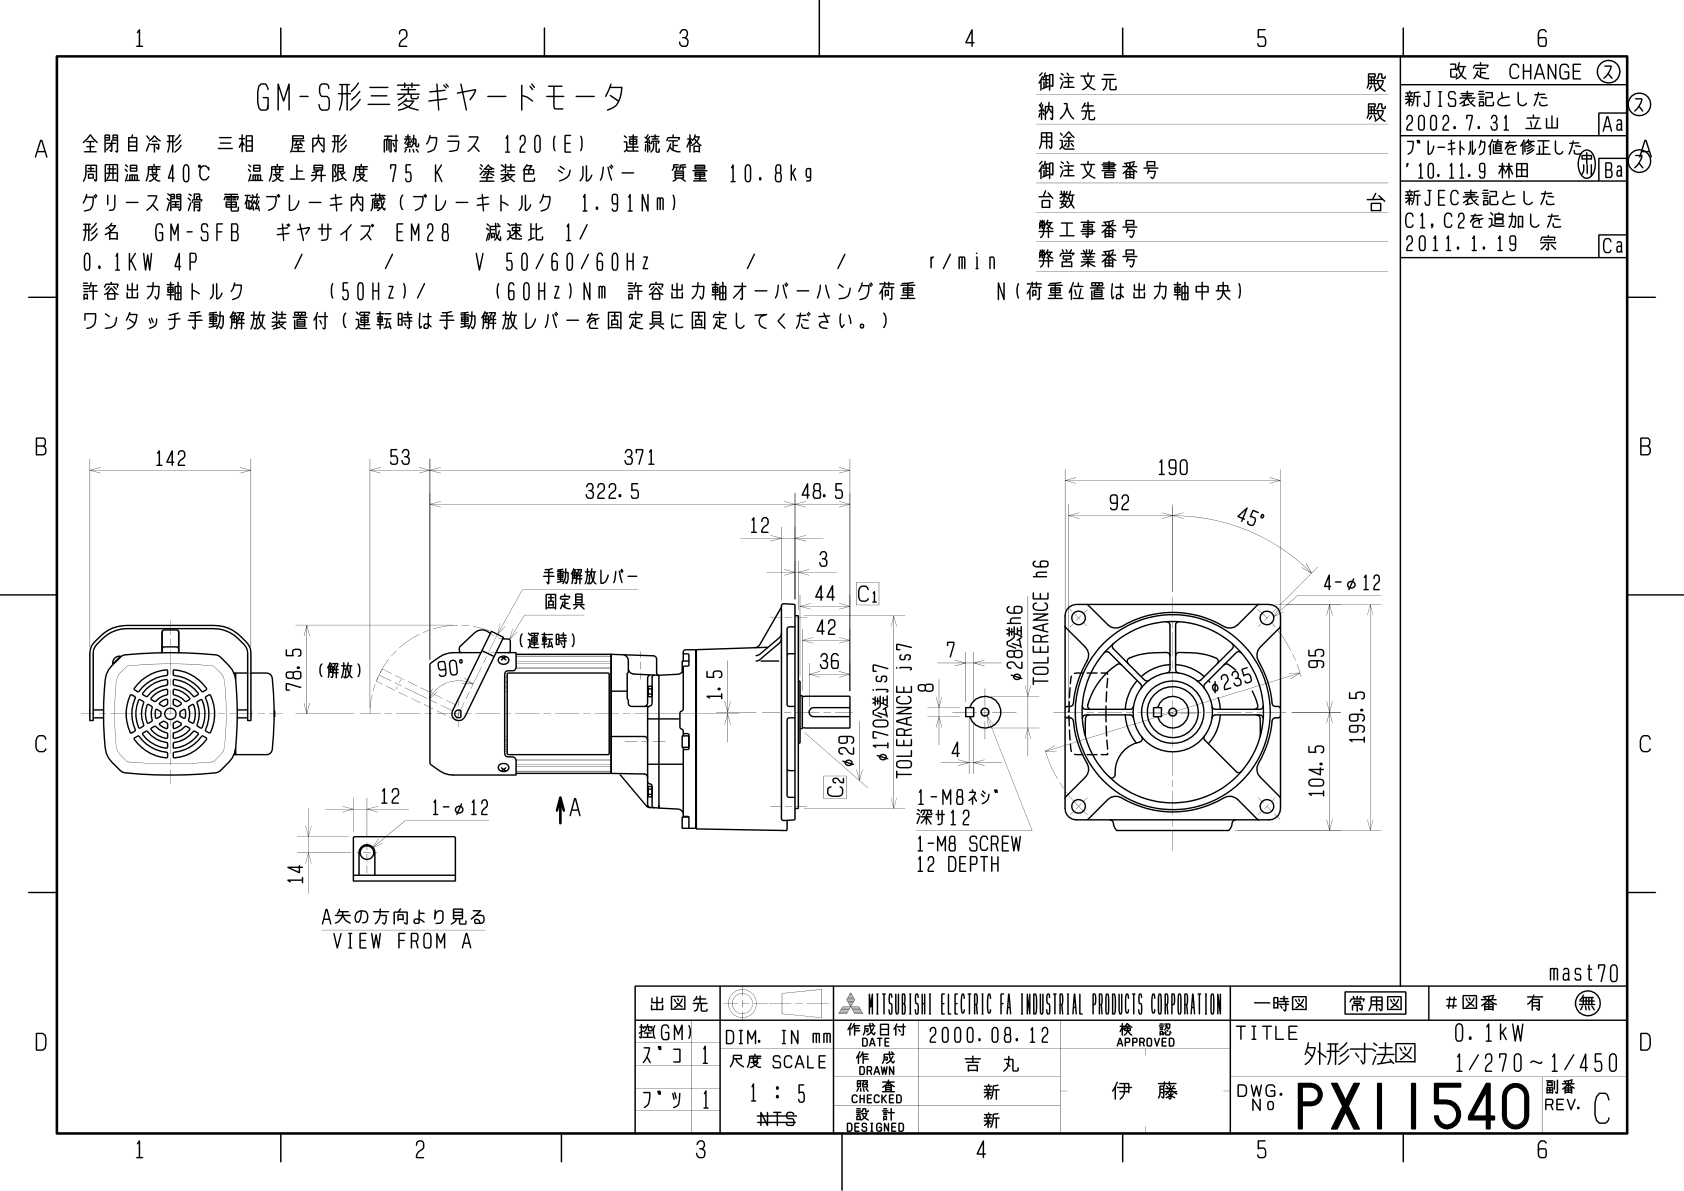GM_S_手動ブレーキ＿三相_フランジ: (4, 12, 1684, 1191)
